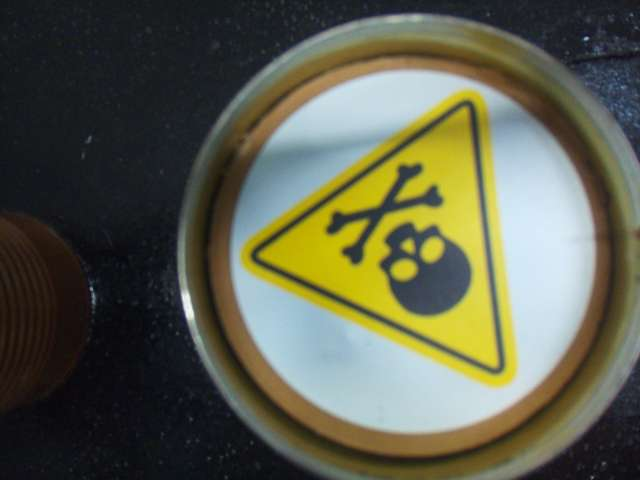toxic_fluid: (227, 75, 537, 400)
